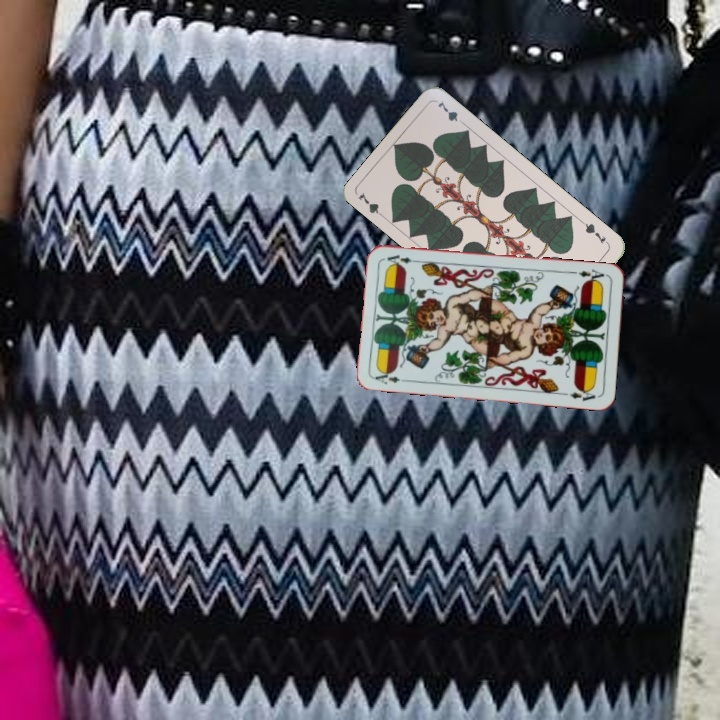EA: (575, 265, 610, 285), (371, 367, 402, 387)
G7: (354, 188, 389, 222), (578, 218, 612, 248)
